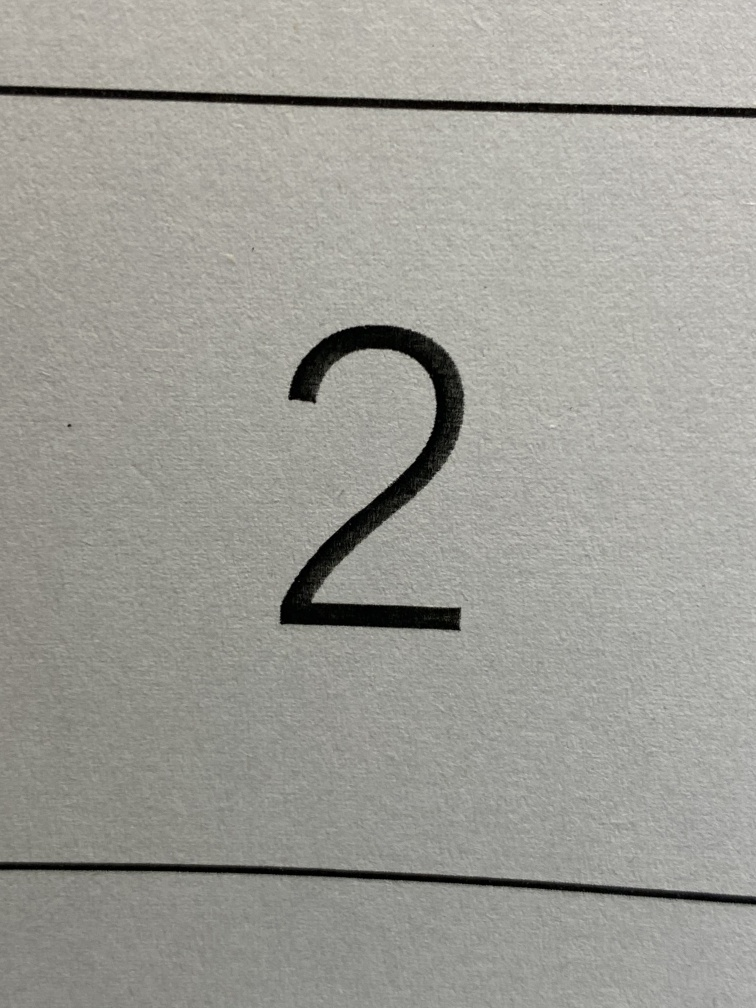two: (214, 255, 549, 711)
